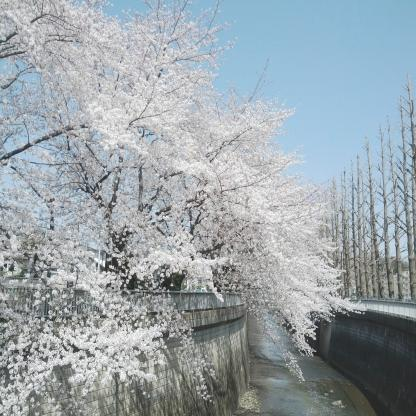Someiyoshino: (0, 1, 356, 414)
